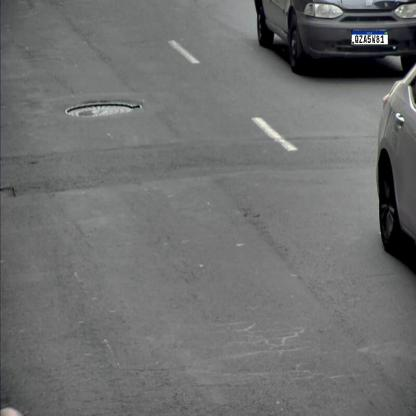PlacaM: (351, 31, 388, 45)
